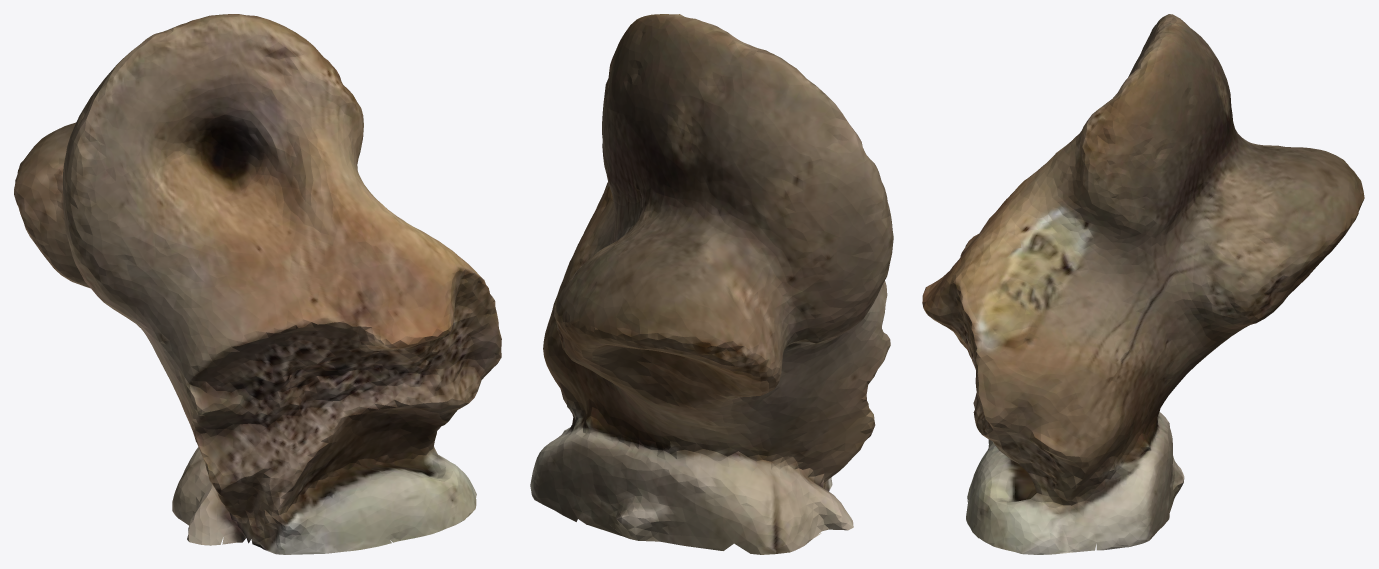
File: APS.86.02.glb
3 renders of one model, left to right at view 1: azimuth 30°, elevation 25°; view 2: azimuth 150°, elevation 25°; view 3: azimuth 270°, elevation 25°, orthographic. The views are drawn at different scales.
Bounding box in the file's own units: 0.0285 × 0.0366 × 0.0338.
Materials: 1 (1 with a texture image).
